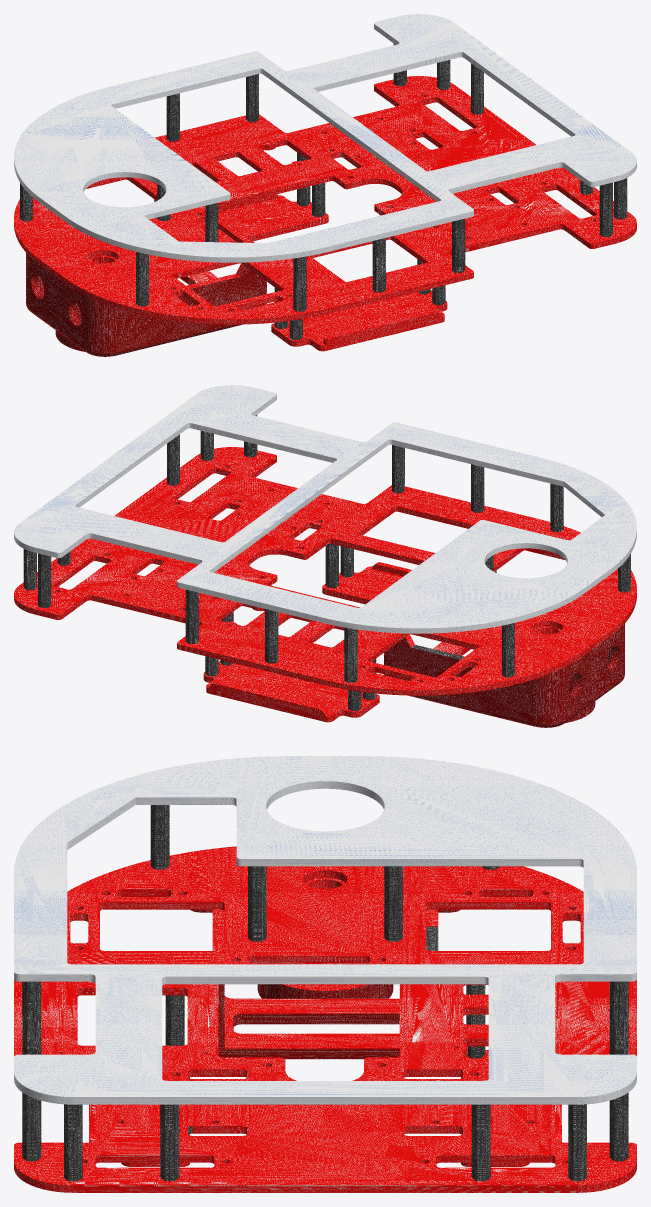
The model's file is next.dae.
3 views of the same model, one above another, from view 1: azimuth 30°, elevation 25°; view 2: azimuth 150°, elevation 25°; view 3: azimuth 270°, elevation 25° (orthographic). The views are drawn at different scales.
Parts seen in each view (by area): view 1: Component_102 (×22); view 2: Component_102 (×22); view 3: Component_102 (×26).
Boxes of the visible parts, x1,y1,x2,y2 form: Component_102 (×22): [14, 14, 636, 356]; Component_102 (×22): [14, 385, 636, 727]; Component_102 (×26): [14, 756, 636, 1192].
Size of the model in its own units: 10.71 by 8.27 by 2.89.
